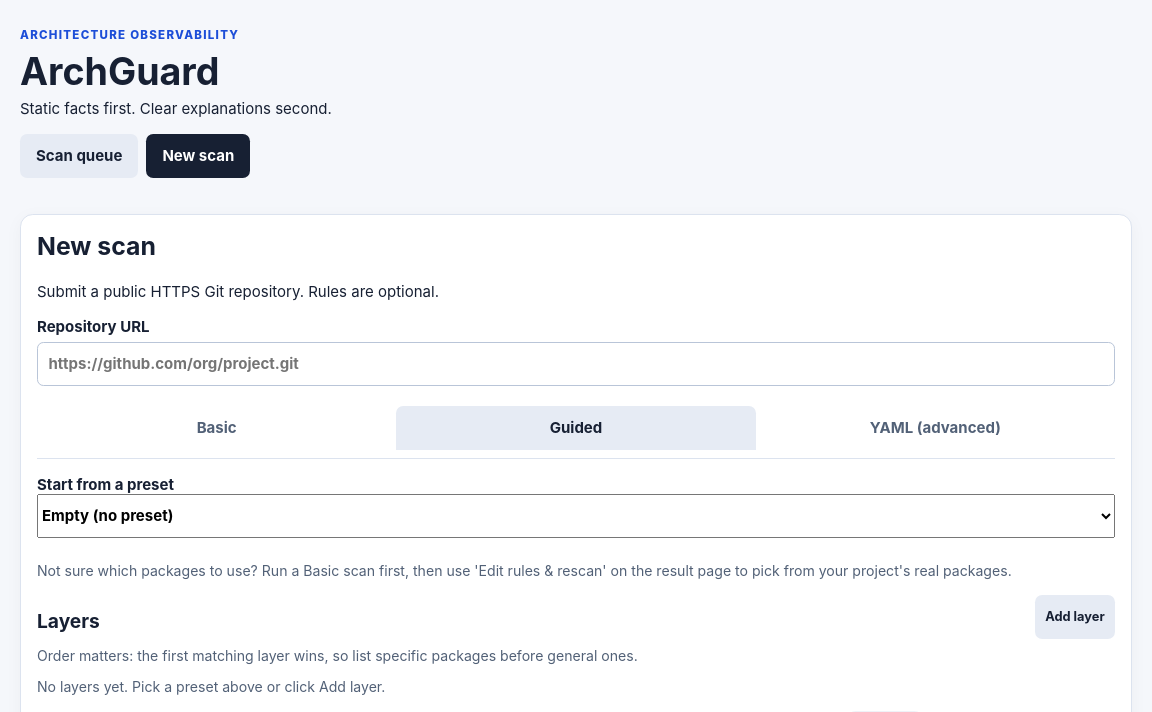
Test: dashboard › goes back to the previous app page
This screenshot has width=1152, height=712.
Click the button "Scan queue" at (79, 156), box left=20, top=134, right=138, bottom=178
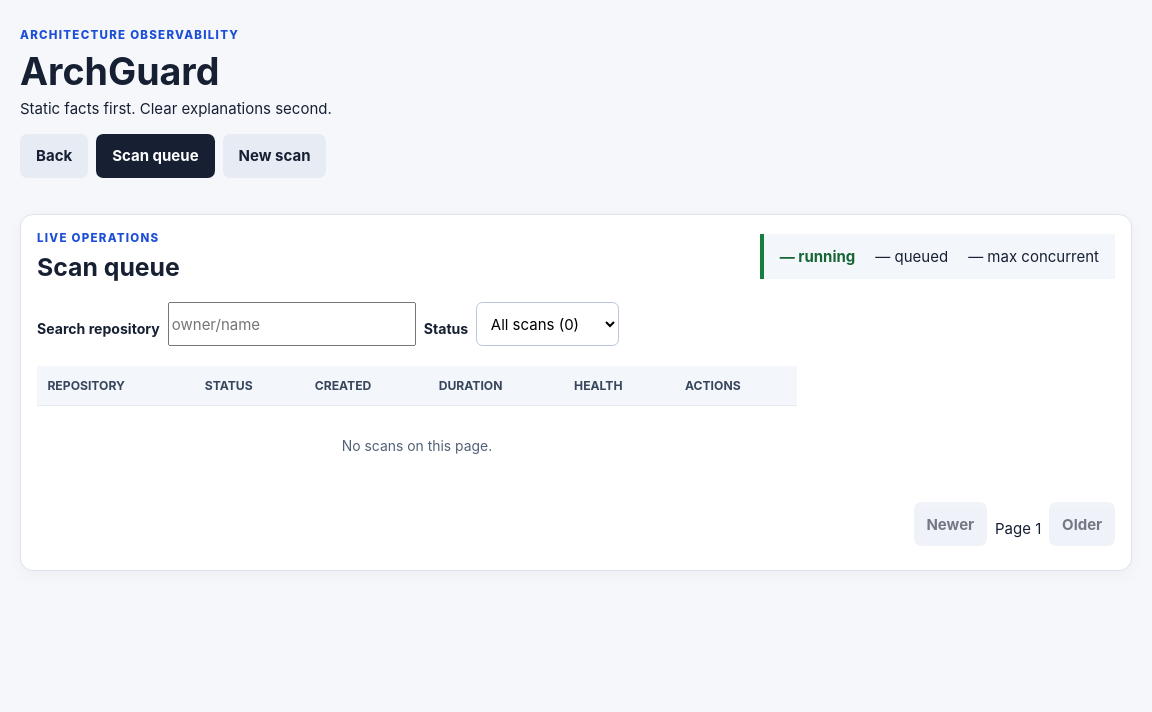
expect the heading "Scan queue" is shown: met, box left=37, top=252, right=180, bottom=282
Click the button "Back" at (54, 156), box left=20, top=134, right=88, bottom=178
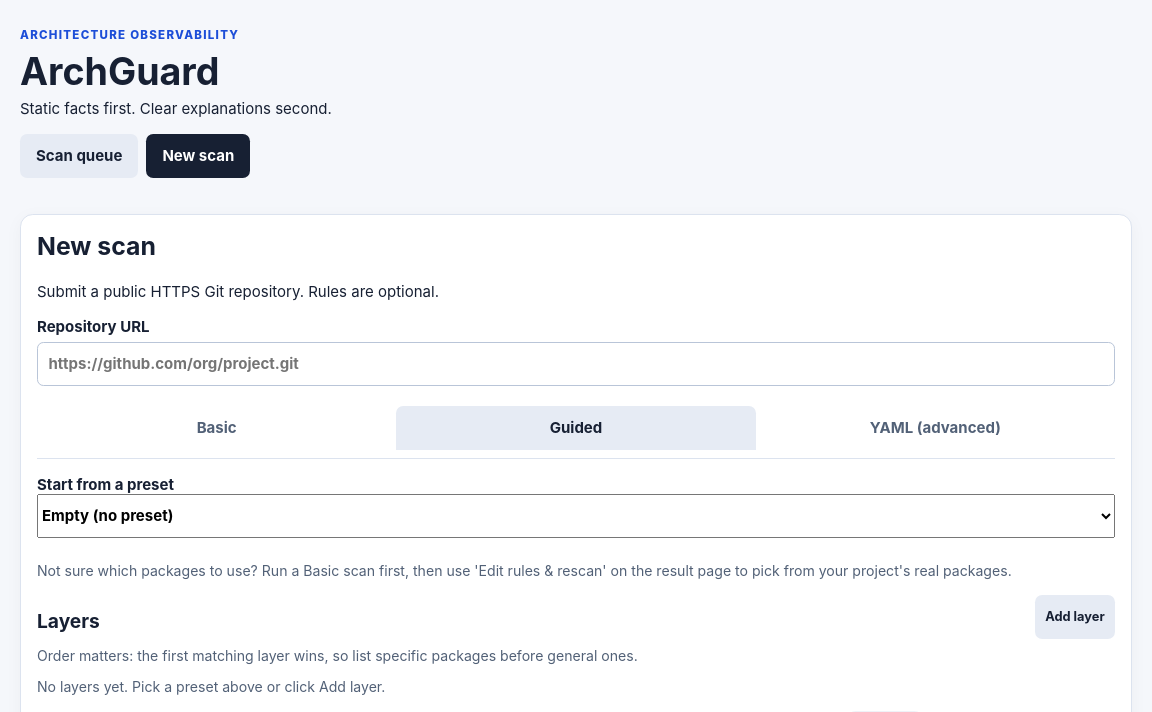
expect the heading "New scan" is shown: met, box left=37, top=231, right=156, bottom=261
